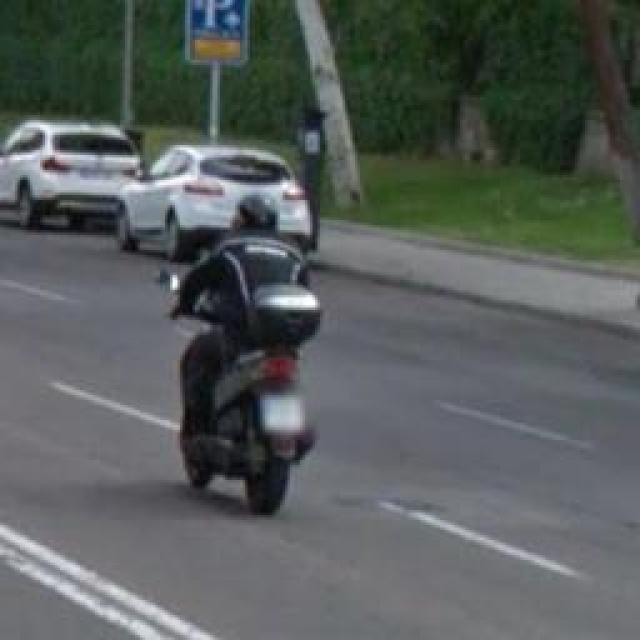Mobil: (112, 145, 318, 258), (0, 122, 142, 228)
Motor: (182, 262, 318, 515)
